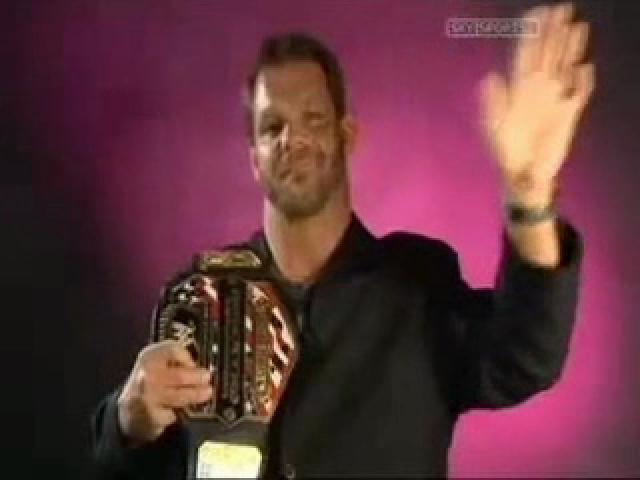L: (89, 22, 586, 479)
